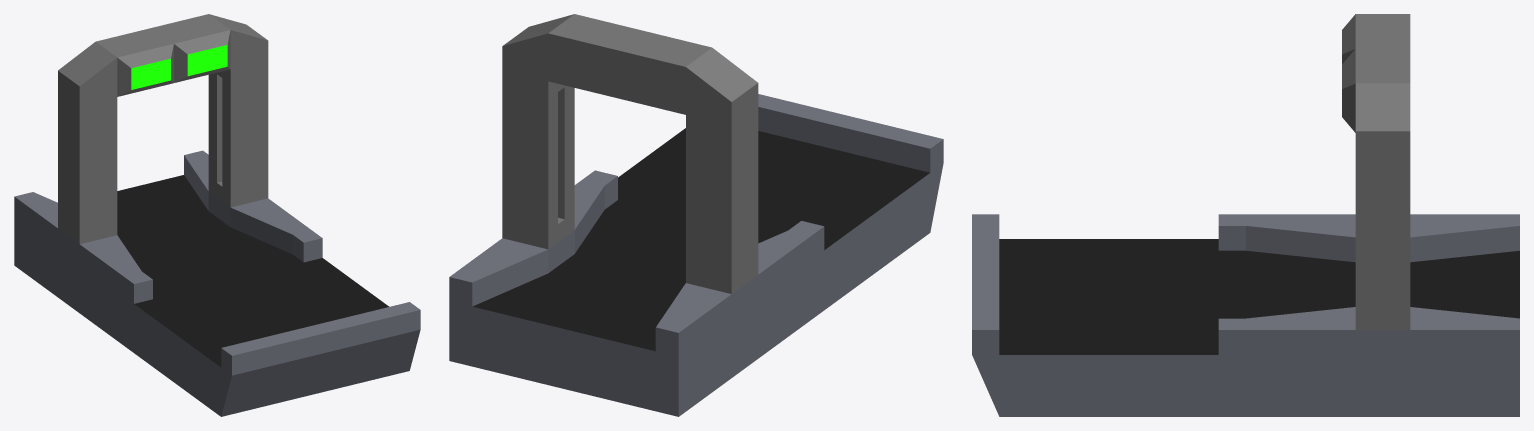
Rendered from gate.glb.
3 renders of one model, left to right at view 1: azimuth 30°, elevation 25°; view 2: azimuth 150°, elevation 25°; view 3: azimuth 270°, elevation 25°, orthographic. The views are drawn at different scales.
Visible parts, largest first — view 1: Gate.Mesh; view 2: Gate.Mesh; view 3: Gate.Mesh.
Part boxes in pixels (left/top/right/bottom): Gate.Mesh: left=14, top=14, right=420, bottom=416; Gate.Mesh: left=449, top=14, right=943, bottom=416; Gate.Mesh: left=972, top=14, right=1519, bottom=416.
Size of the model in its own units: 2 by 2.5 by 4.
